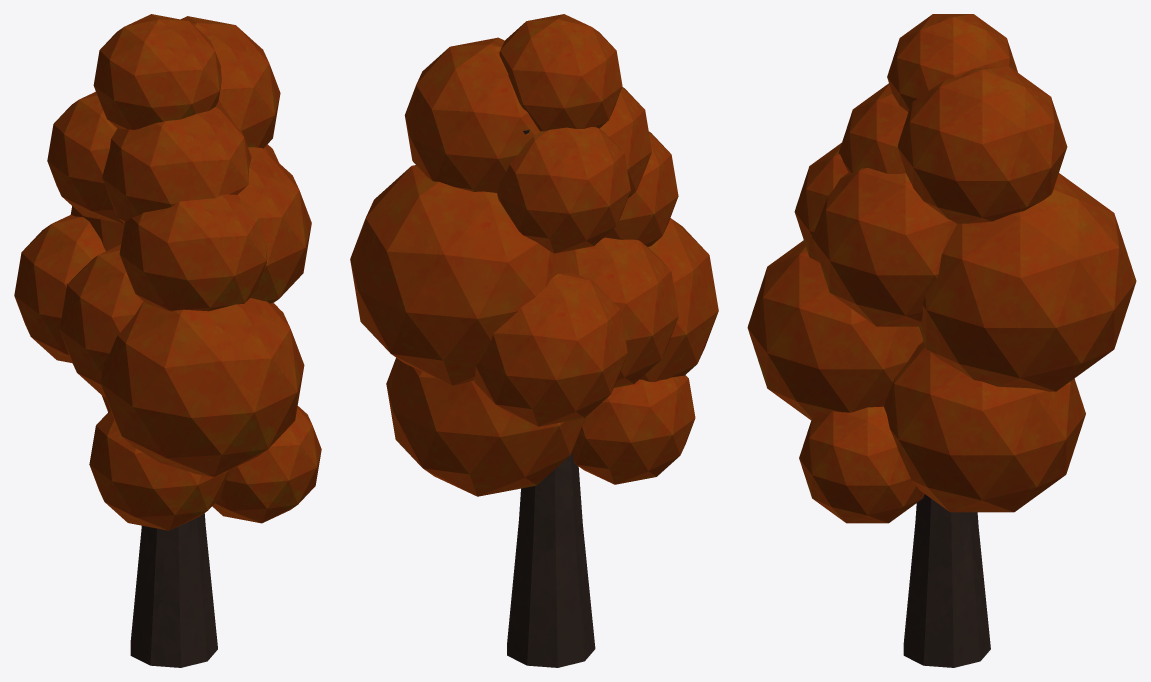
Rendered from tree-green-orange-flowers_7.fbx.
3 renders of one model, left to right at view 1: azimuth 30°, elevation 25°; view 2: azimuth 150°, elevation 25°; view 3: azimuth 270°, elevation 25°, orthographic.
Parts seen in each view (by area): view 1: Icosphere.135; view 2: Icosphere.135; view 3: Icosphere.135.
Part boxes in pixels (x1,y1,x2,y2): Icosphere.135: (14, 14, 321, 667); Icosphere.135: (350, 14, 718, 667); Icosphere.135: (747, 14, 1136, 667).
Size of the model in its own units: 149 by 357 by 201.
